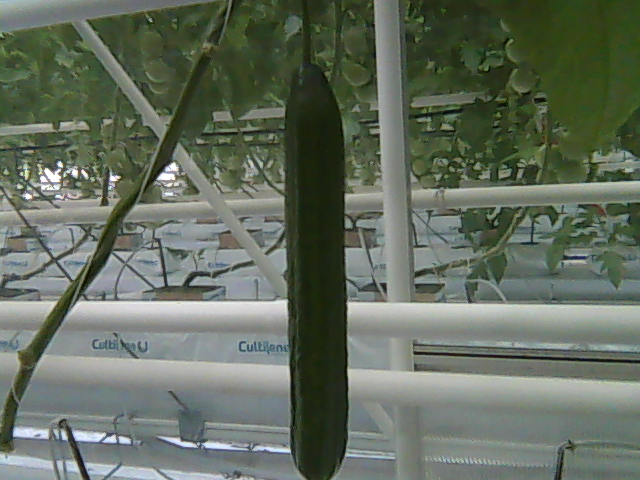concombre: (280, 51, 353, 480)
